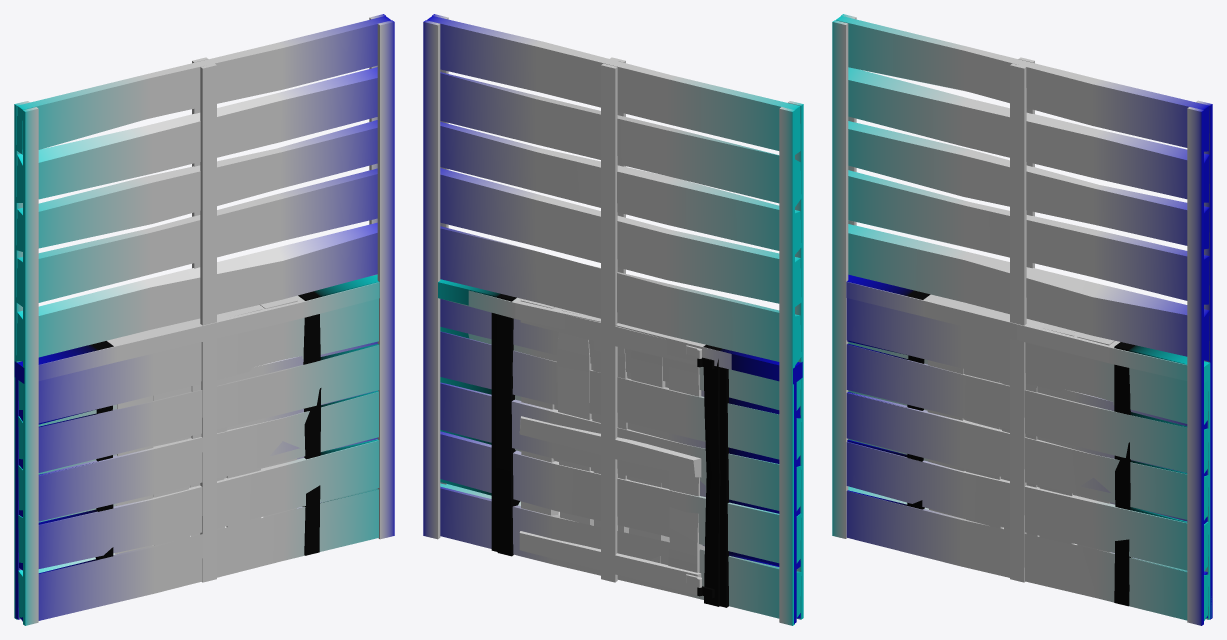
File: MBSSecondPack_WoodenWallsInner.fbx
3 views of the same model, side by side, from view 1: azimuth 30°, elevation 25°; view 2: azimuth 150°, elevation 25°; view 3: azimuth 330°, elevation 25° (orthographic).
Visible parts, largest first — view 1: inner_solid_tall, inner_solid, inner_doorway, inner_door; view 2: inner_solid_tall, inner_door, inner_doorway, inner_solid; view 3: inner_solid_tall, inner_solid, inner_doorway, inner_door.
Part boxes in pixels (x1,y1,x2,y2): inner_solid_tall: [14, 14, 394, 625]; inner_solid: [17, 282, 379, 620]; inner_doorway: [14, 274, 378, 621]; inner_door: [115, 297, 297, 554]; inner_solid_tall: [423, 14, 803, 625]; inner_door: [519, 299, 704, 594]; inner_doorway: [438, 279, 802, 623]; inner_solid: [440, 290, 800, 621]; inner_solid_tall: [832, 14, 1212, 625]; inner_solid: [846, 281, 1210, 620]; inner_doorway: [847, 274, 1211, 620]; inner_door: [927, 324, 1114, 552].
Size of the model in its own units: 150 by 200 by 9.5.
